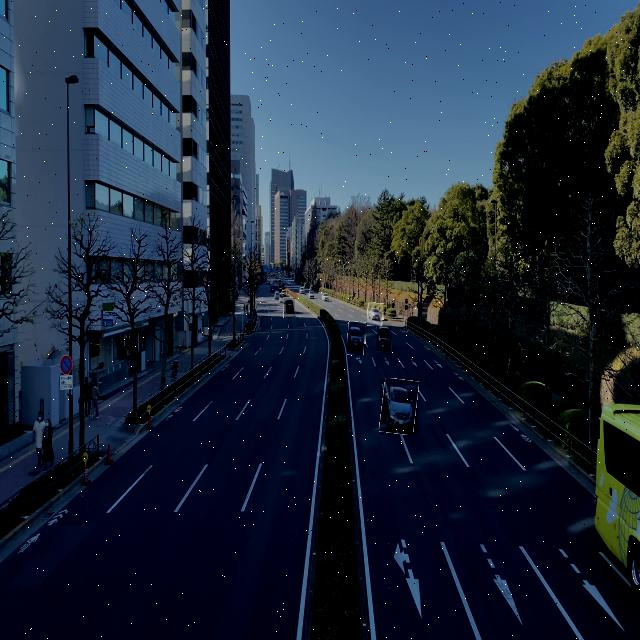Car: (380, 379, 418, 435), (348, 322, 366, 355), (376, 322, 392, 352), (368, 303, 383, 326), (284, 298, 296, 318)
